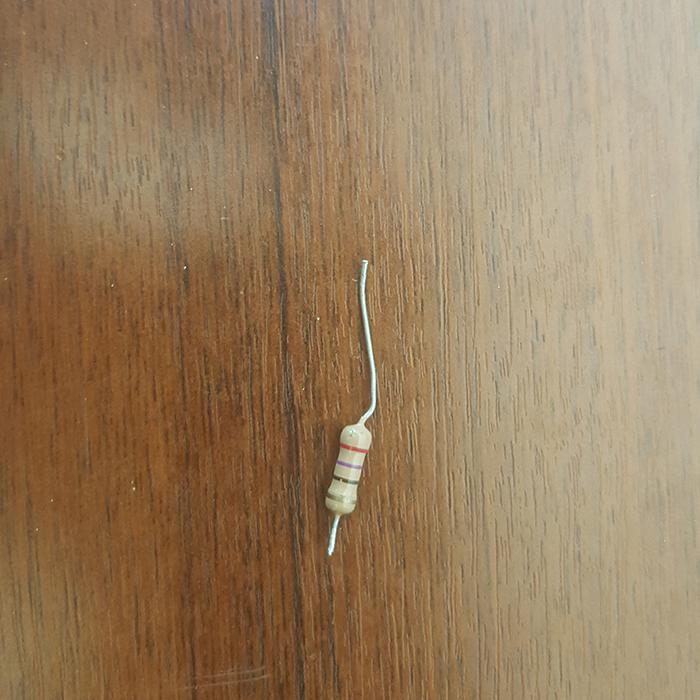resistor: (325, 422, 373, 516)
